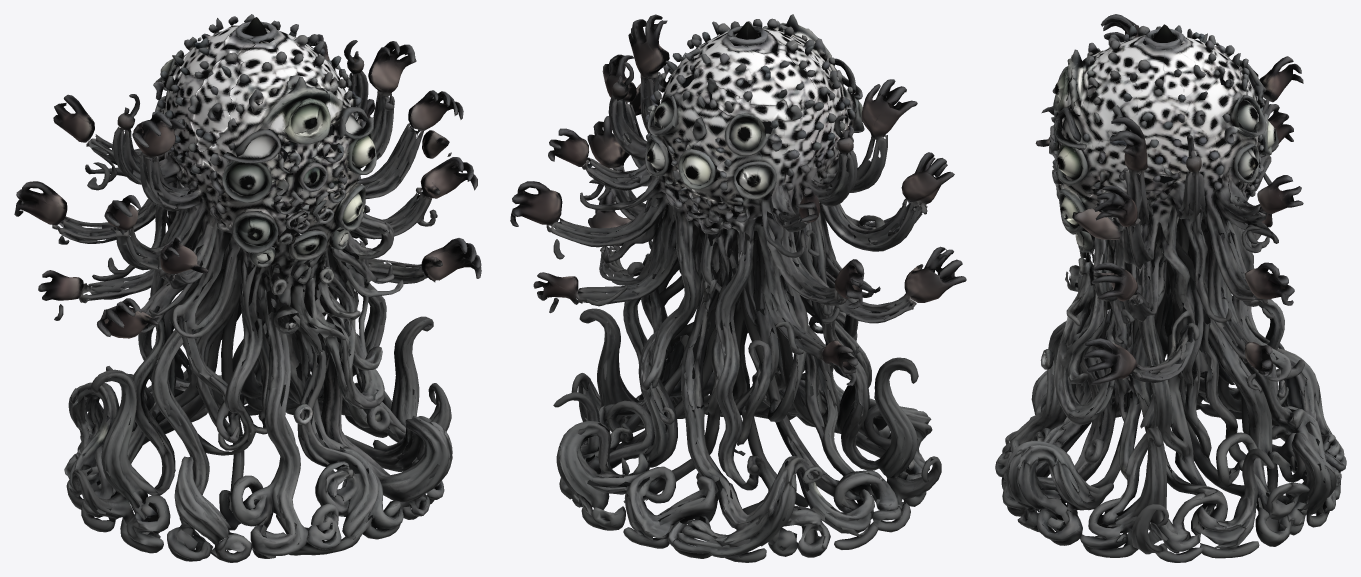
The model's file is fig_abomination_clay.glb.
3 renders of one model, left to right at view 1: azimuth 30°, elevation 25°; view 2: azimuth 150°, elevation 25°; view 3: azimuth 270°, elevation 25°, orthographic. The views are drawn at different scales.
Parts seen in each view (by area): view 1: geometry_0; view 2: geometry_0; view 3: geometry_0.
Boxes of the visible parts, x1=… form: geometry_0: x1=14, y1=14, x2=481, y2=562; geometry_0: x1=510, y1=14, x2=966, y2=562; geometry_0: x1=995, y1=14, x2=1346, y2=562.
Bounding box in the file's own units: 0.7868 × 0.9346 × 0.6434.
Materials: 1 (1 with a texture image).
